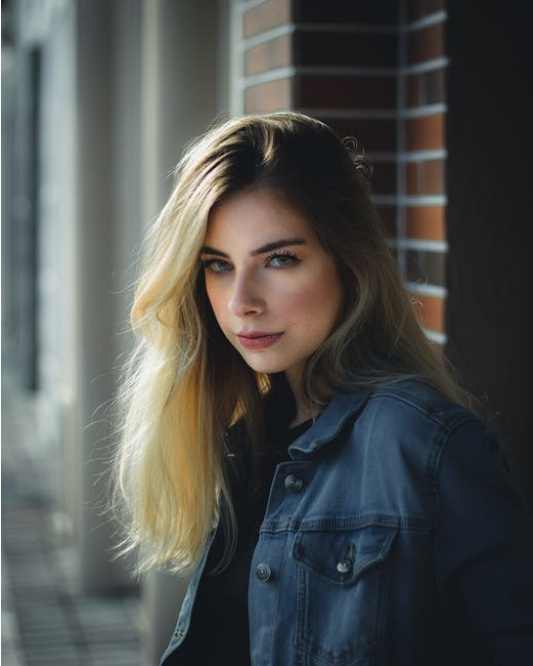face: (197, 190, 341, 373)
